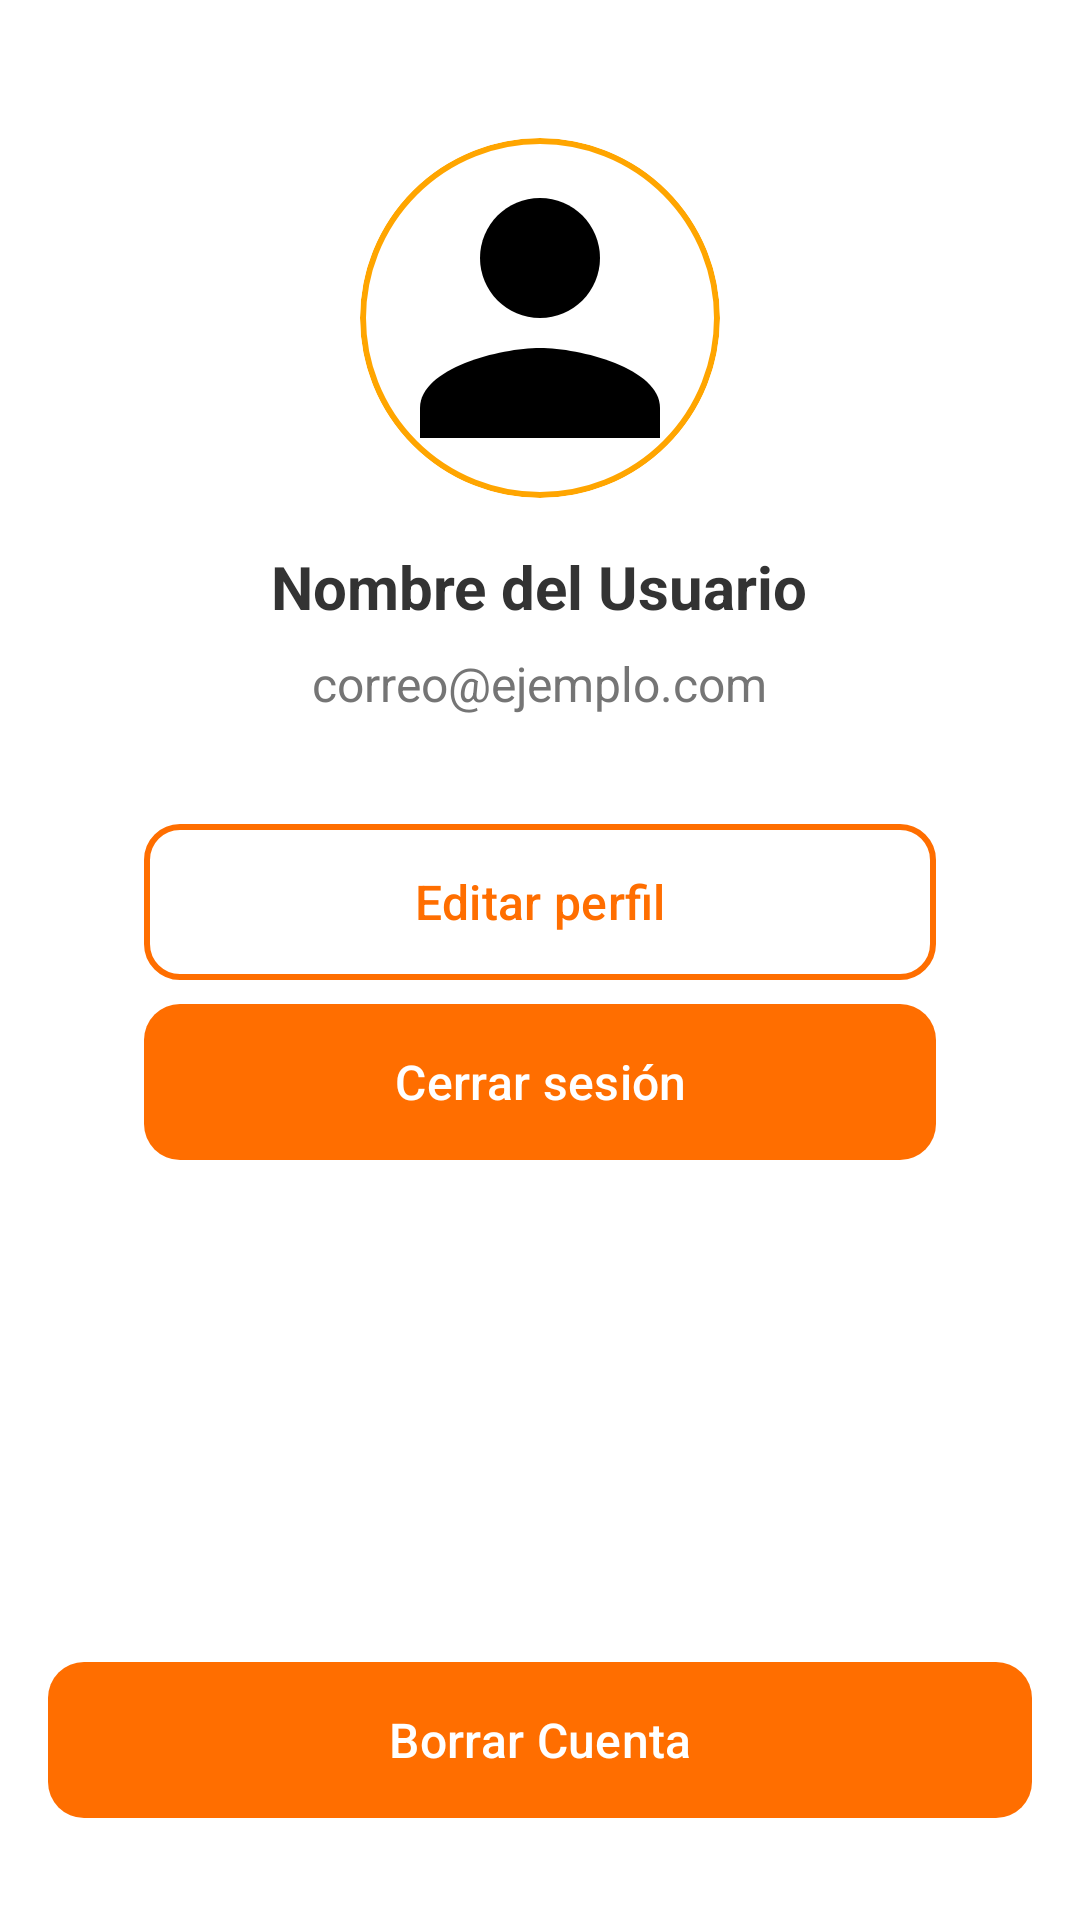

Where icons sit on this 1080 × 1920 app screen, as [x1,y1,x2,y2]:
Imagen de perfil: [360,138,720,498]
